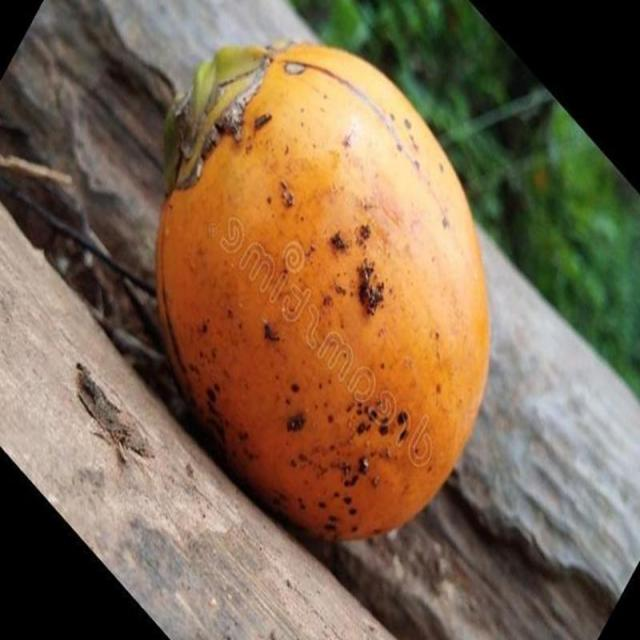good: (154, 42, 493, 547)
